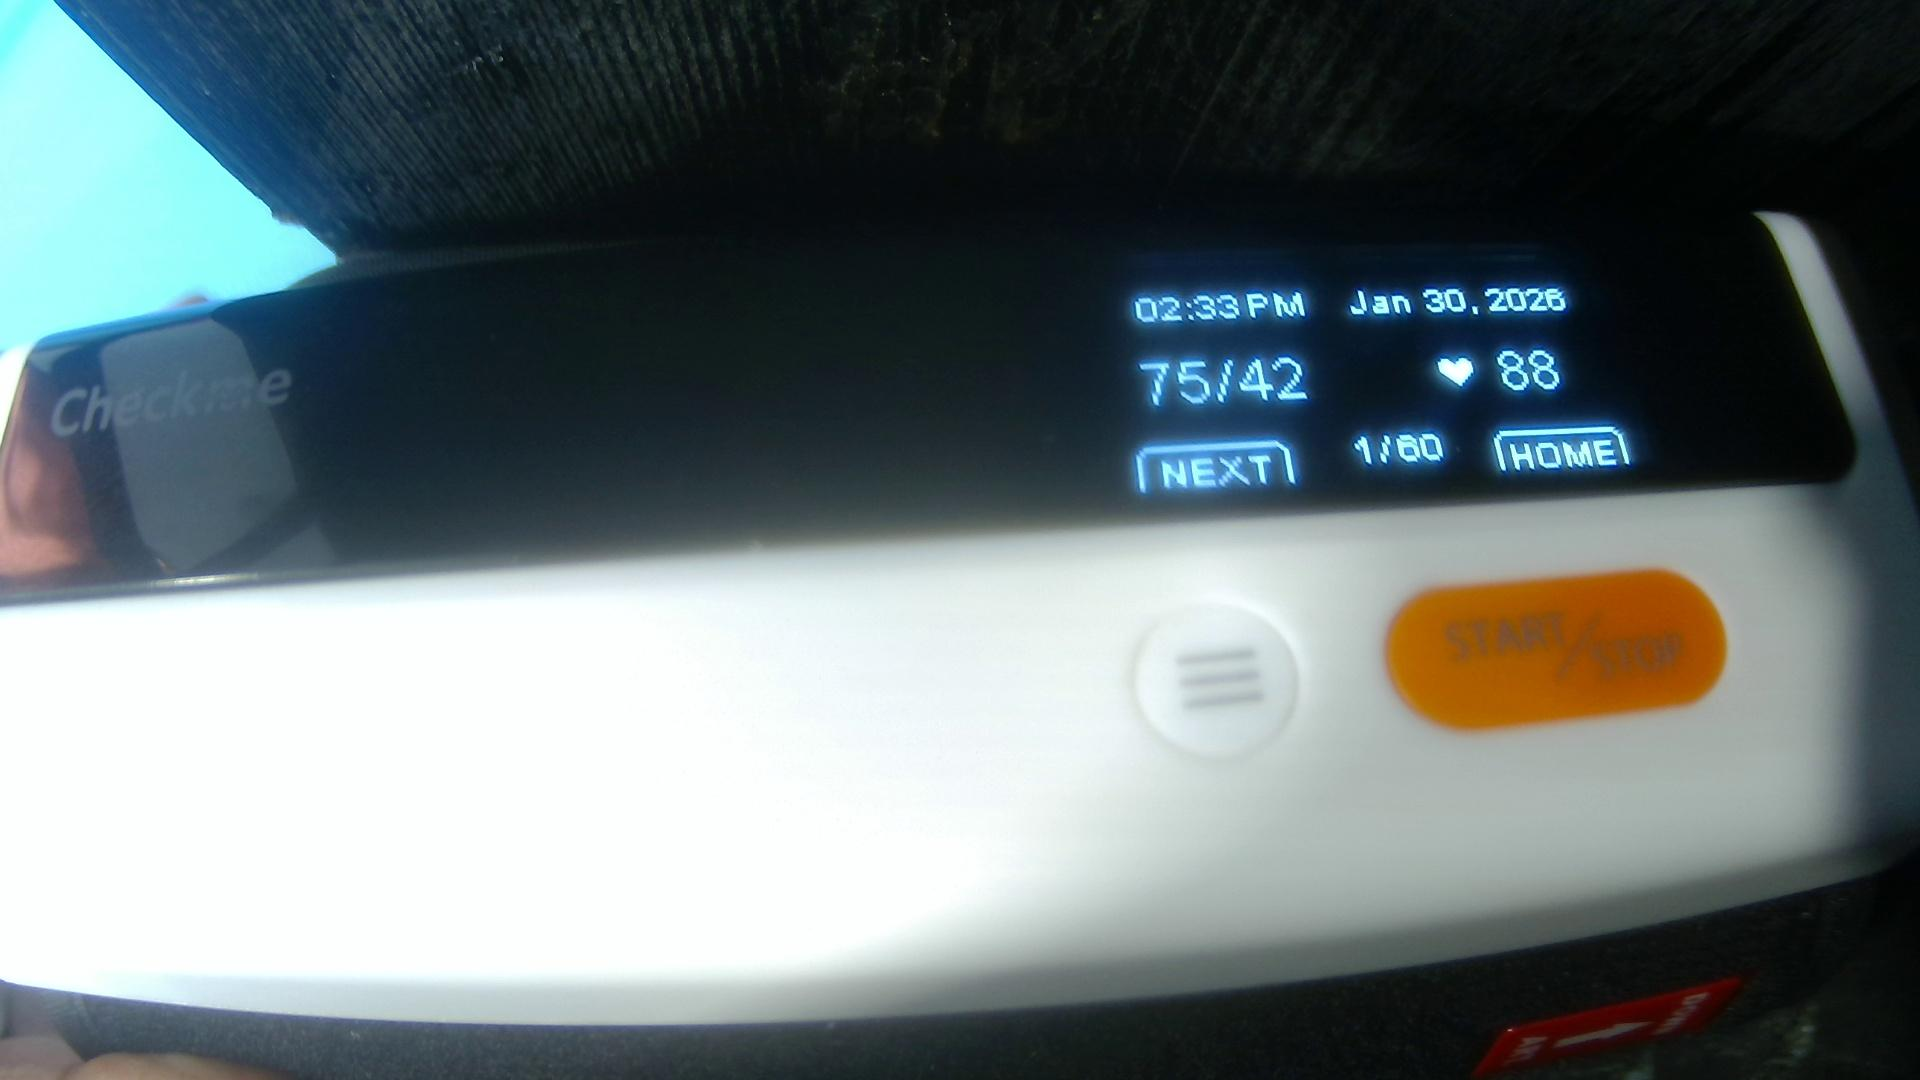DISPLAY: (11, 213, 1864, 571)
